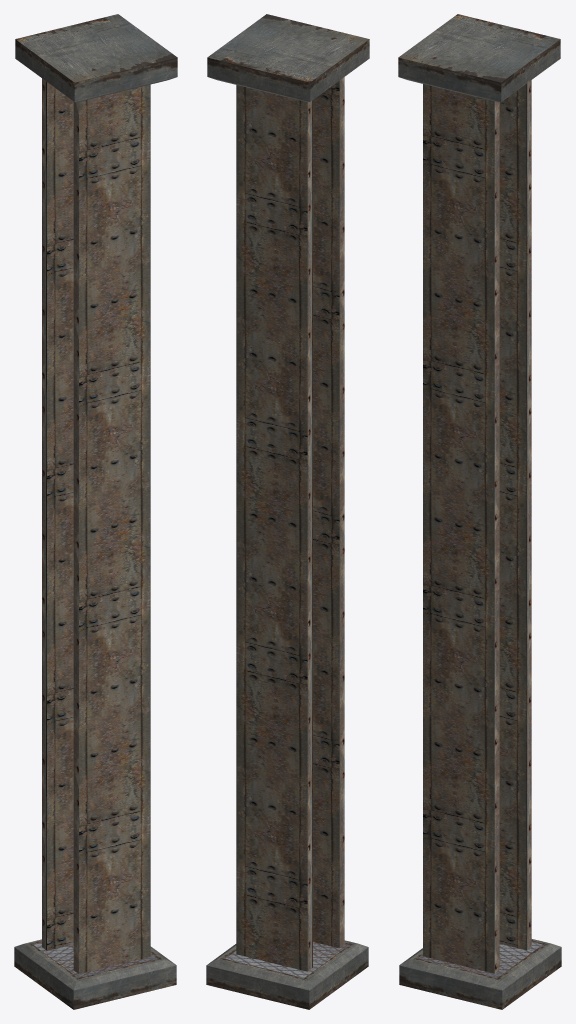
File: IbeamB.FBX
3 views of the same model, side by side, from view 1: azimuth 30°, elevation 25°; view 2: azimuth 150°, elevation 25°; view 3: azimuth 330°, elevation 25° (orthographic).
Parts seen in each view (by area): view 1: Ibeam02; view 2: Ibeam02; view 3: Ibeam02.
Part boxes in pixels (bbox=[...]): Ibeam02: bbox=[14, 14, 177, 1009]; Ibeam02: bbox=[206, 14, 369, 1009]; Ibeam02: bbox=[398, 14, 561, 1009].
Size of the model in its own units: 71.41 by 614 by 72.52.
1 material, 1 textured.
